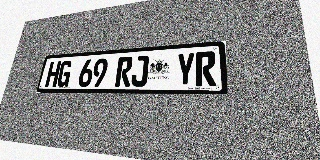6: (77, 59, 95, 87)
9: (91, 58, 109, 87)
G: (56, 60, 73, 87)
H: (45, 61, 61, 87)
J: (130, 55, 149, 87)
R: (195, 51, 216, 86), (115, 56, 133, 87)
Y: (175, 52, 195, 86)
